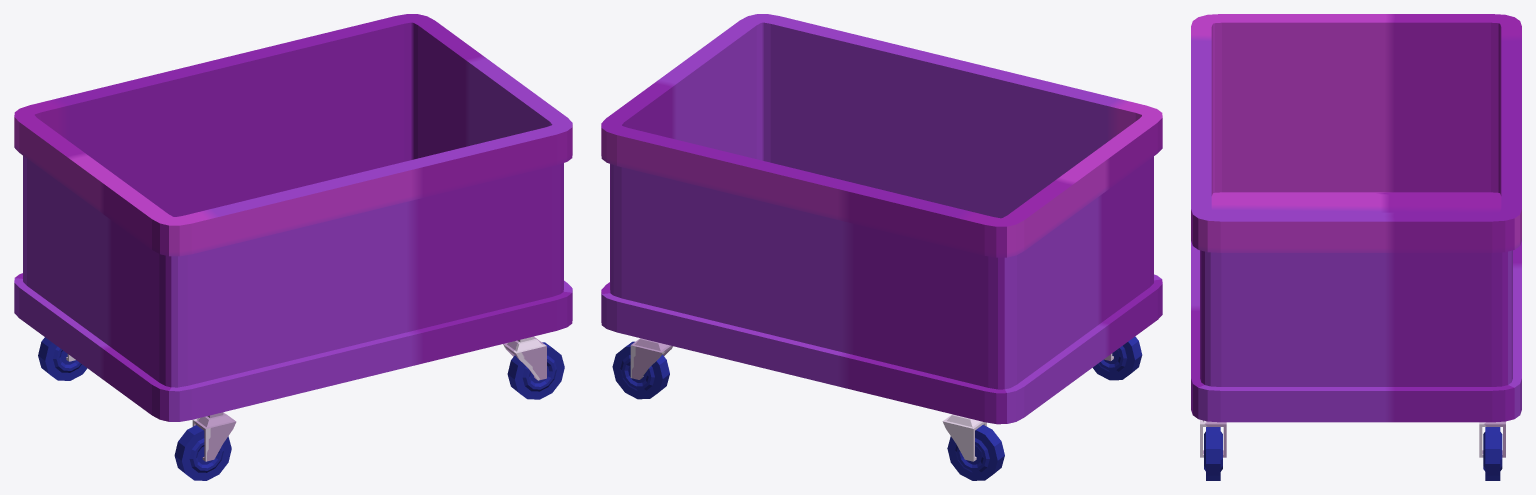
Rendered from Backet_Wagon.fbx.
The picture shows the model from 3 angles, left to right: view 1: azimuth 30°, elevation 25°; view 2: azimuth 150°, elevation 25°; view 3: azimuth 270°, elevation 25°; orthographic projection. The views are drawn at different scales.
Parts seen in each view (by area): view 1: Backet_Wagon; view 2: Backet_Wagon; view 3: Backet_Wagon.
Boxes of the visible parts, box(x1,y1,x2,y2) form: Backet_Wagon: box(14, 14, 572, 480); Backet_Wagon: box(601, 14, 1162, 480); Backet_Wagon: box(1191, 14, 1521, 480).
Bounding box in the file's own units: 120 × 73.76 × 80.66.
